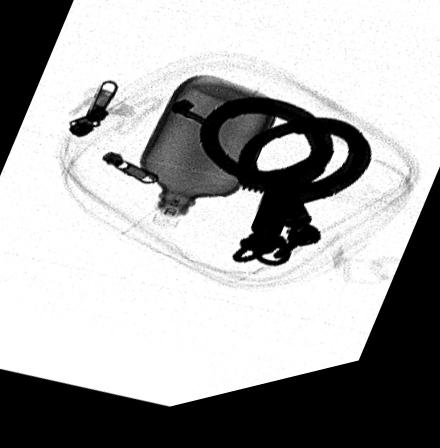HandCuffs: (199, 109, 372, 279)
